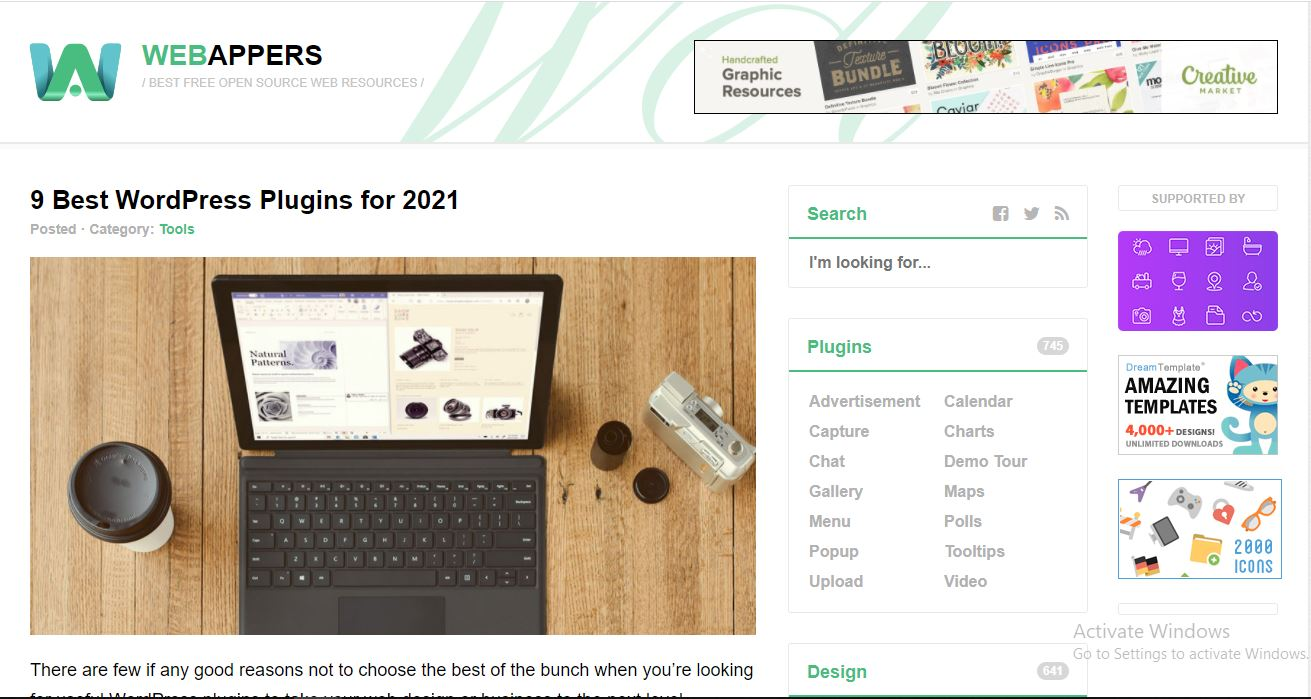Side Bar: (795, 183, 1094, 699), (1104, 162, 1311, 699)
